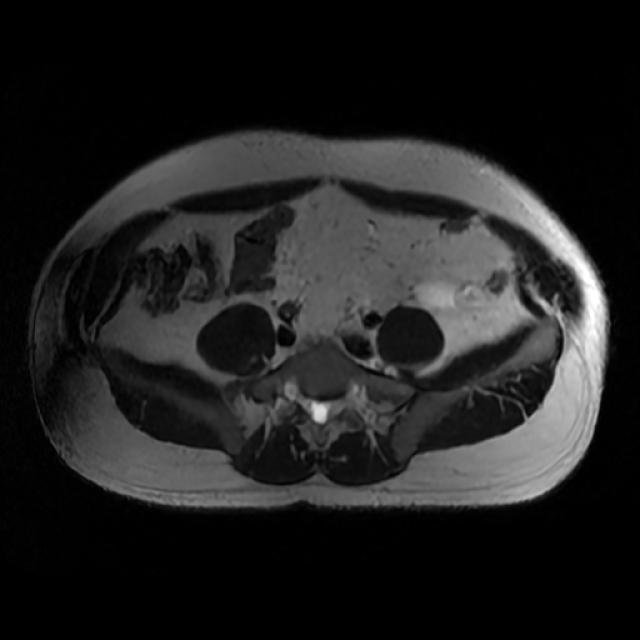sol: (411, 276, 464, 309)
